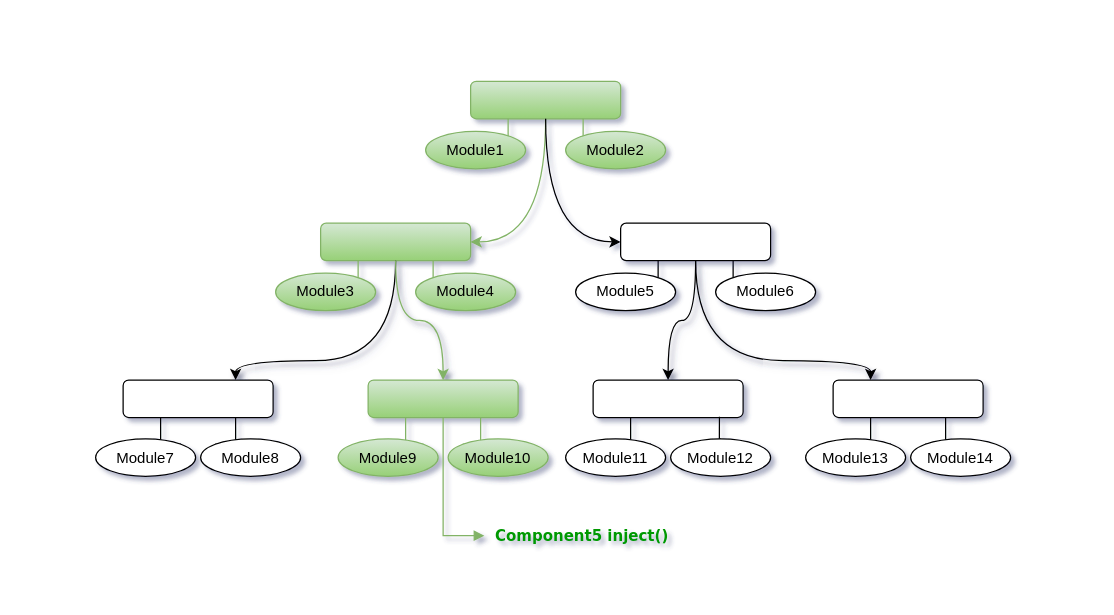
This 1114x615 diagram has some shape labels left out. The shapes that lost their labels are listed below. From the top down, each one's centre as x and y in pixels, then its label:
(x=545, y=99): Component1
(x=395, y=241): Component2
(x=695, y=241): Component3
(x=197, y=398): Component4
(x=442, y=398): Component5
(x=667, y=398): Component6
(x=907, y=398): Component7
